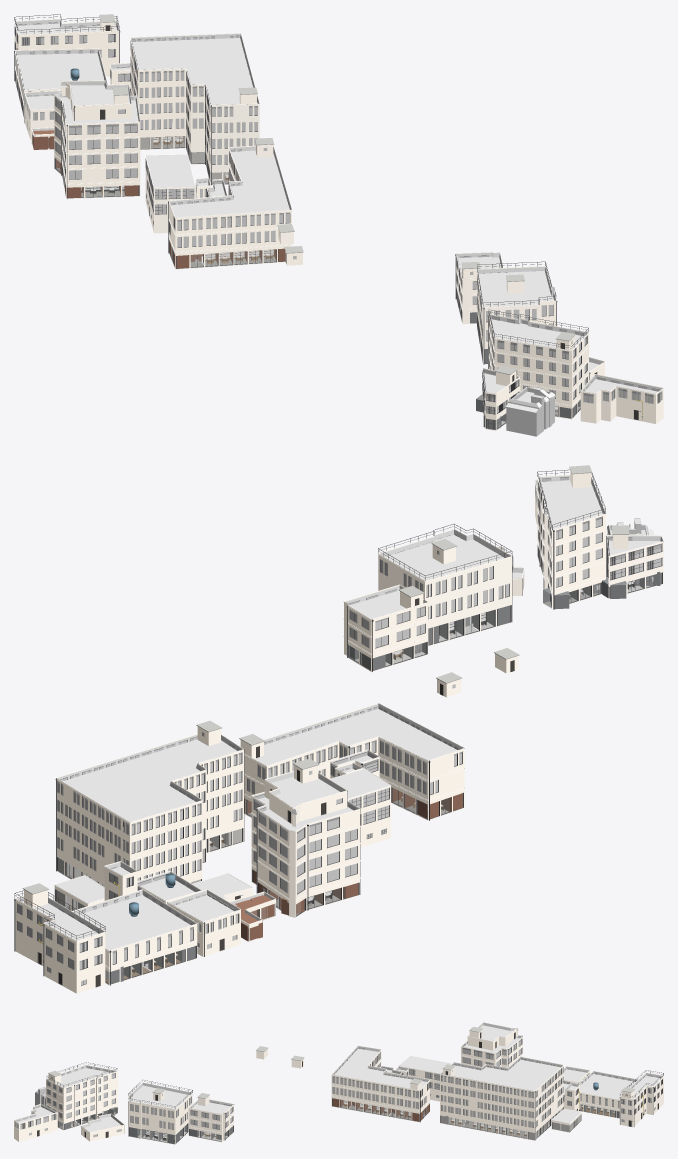
The picture shows the model from 3 angles, top to bottom: view 1: azimuth 30°, elevation 25°; view 2: azimuth 150°, elevation 25°; view 3: azimuth 270°, elevation 25°; orthographic projection. The views are drawn at different scales.
Visible parts, largest first — view 1: 서울특별시 성동구 성수동2가 275-4, 서울특별시 성동구 성수동2가 275-6.002, 서울특별시 성동구 성수동2가 275-96, 서울특별시 광진구 자양동 251-76, 서울특별시 광진구 자양동 251-64, 서울특별시 성동구 성수동2가 275-59.003, 서울특별시 광진구 자양동 250-14, 서울특별시 성동구 성수동2가 275-71.001, 서울특별시 성동구 성수동2가 275-5.001, 서울특별시 광진구 자양동 250-11, 서울특별시 광진구 자양동 25-4, 서울특별시 광진구 자양동 250-10 (+1 smaller); view 2: 서울특별시 성동구 성수동2가 275-4, 서울특별시 성동구 성수동2가 275-96, 서울특별시 성동구 성수동2가 275-6.002, 서울특별시 광진구 자양동 251-64, 서울특별시 광진구 자양동 251-76, 서울특별시 성동구 성수동2가 275-71.001, 서울특별시 성동구 성수동2가 275-59.003, 서울특별시 광진구 자양동 25-4, 서울특별시 광진구 자양동 250-10, 서울특별시 성동구 성수동2가 275-7, 서울특별시 성동구 성수동2가 275-5.001, 서울특별시 성동구 성수동2가 275-94.001 (+4 smaller); view 3: 서울특별시 성동구 성수동2가 275-4, 서울특별시 성동구 성수동2가 275-6.002, 서울특별시 광진구 자양동 251-76, 서울특별시 광진구 자양동 251-64, 서울특별시 성동구 성수동2가 275-96, 서울특별시 성동구 성수동2가 275-71.001, 서울특별시 성동구 성수동2가 275-59.003, 서울특별시 광진구 자양동 25-4, 서울특별시 광진구 자양동 250-14, 서울특별시 성동구 성수동2가 275-5.001, 서울특별시 광진구 자양동 251-77, 서울특별시 성동구 성수동2가 275-3 (+2 smaller).
Boxes of the visible parts, left/top/right/bottom form: 서울특별시 성동구 성수동2가 275-4: left=130, top=33, right=259, bottom=185; 서울특별시 성동구 성수동2가 275-6.002: left=168, top=145, right=292, bottom=269; 서울특별시 성동구 성수동2가 275-96: left=54, top=80, right=140, bottom=198; 서울특별시 광진구 자양동 251-76: left=487, top=309, right=589, bottom=419; 서울특별시 광진구 자양동 251-64: left=476, top=261, right=557, bottom=364; 서울특별시 성동구 성수동2가 275-59.003: left=14, top=14, right=120, bottom=76; 서울특별시 광진구 자양동 250-14: left=580, top=374, right=663, bottom=423; 서울특별시 성동구 성수동2가 275-71.001: left=14, top=48, right=107, bottom=117; 서울특별시 성동구 성수동2가 275-5.001: left=145, top=154, right=195, bottom=233; 서울특별시 광진구 자양동 250-11: left=506, top=386, right=555, bottom=436; 서울특별시 광진구 자양동 25-4: left=455, top=252, right=503, bottom=324; 서울특별시 광진구 자양동 250-10: left=476, top=368, right=520, bottom=430; 서울특별시 성동구 성수동2가 275-4: left=55, top=733, right=244, bottom=886; 서울특별시 성동구 성수동2가 275-96: left=251, top=771, right=360, bottom=917; 서울특별시 성동구 성수동2가 275-6.002: left=244, top=703, right=464, bottom=820; 서울특별시 광진구 자양동 251-64: left=378, top=524, right=512, bottom=646; 서울특별시 광진구 자양동 251-76: left=537, top=469, right=606, bottom=609; 서울특별시 성동구 성수동2가 275-71.001: left=72, top=889, right=197, bottom=985; 서울특별시 성동구 성수동2가 275-59.003: left=14, top=890, right=105, bottom=993; 서울특별시 광진구 자양동 25-4: left=343, top=584, right=428, bottom=671; 서울특별시 광진구 자양동 250-10: left=600, top=535, right=663, bottom=598; 서울특별시 성동구 성수동2가 275-7: left=167, top=889, right=241, bottom=956; 서울특별시 성동구 성수동2가 275-5.001: left=329, top=768, right=391, bottom=847; 서울특별시 성동구 성수동2가 275-94.001: left=229, top=891, right=276, bottom=941; 서울특별시 성동구 성수동2가 275-4: left=440, top=1056, right=563, bottom=1140; 서울특별시 성동구 성수동2가 275-6.002: left=331, top=1045, right=430, bottom=1122; 서울특별시 광진구 자양동 251-76: left=46, top=1062, right=117, bottom=1130; 서울특별시 광진구 자양동 251-64: left=128, top=1080, right=192, bottom=1144; 서울특별시 성동구 성수동2가 275-96: left=461, top=1022, right=522, bottom=1067; 서울특별시 성동구 성수동2가 275-71.001: left=578, top=1071, right=637, bottom=1118; 서울특별시 성동구 성수동2가 275-59.003: left=619, top=1070, right=663, bottom=1127; 서울특별시 광진구 자양동 25-4: left=188, top=1099, right=234, bottom=1142; 서울특별시 광진구 자양동 250-14: left=14, top=1103, right=57, bottom=1141; 서울특별시 성동구 성수동2가 275-5.001: left=398, top=1056, right=451, bottom=1101; 서울특별시 광진구 자양동 251-77: left=80, top=1113, right=124, bottom=1141; 서울특별시 성동구 성수동2가 275-3: left=551, top=1108, right=581, bottom=1132.
Size of the model in its own units: 53.12 by 21.47 by 209.
